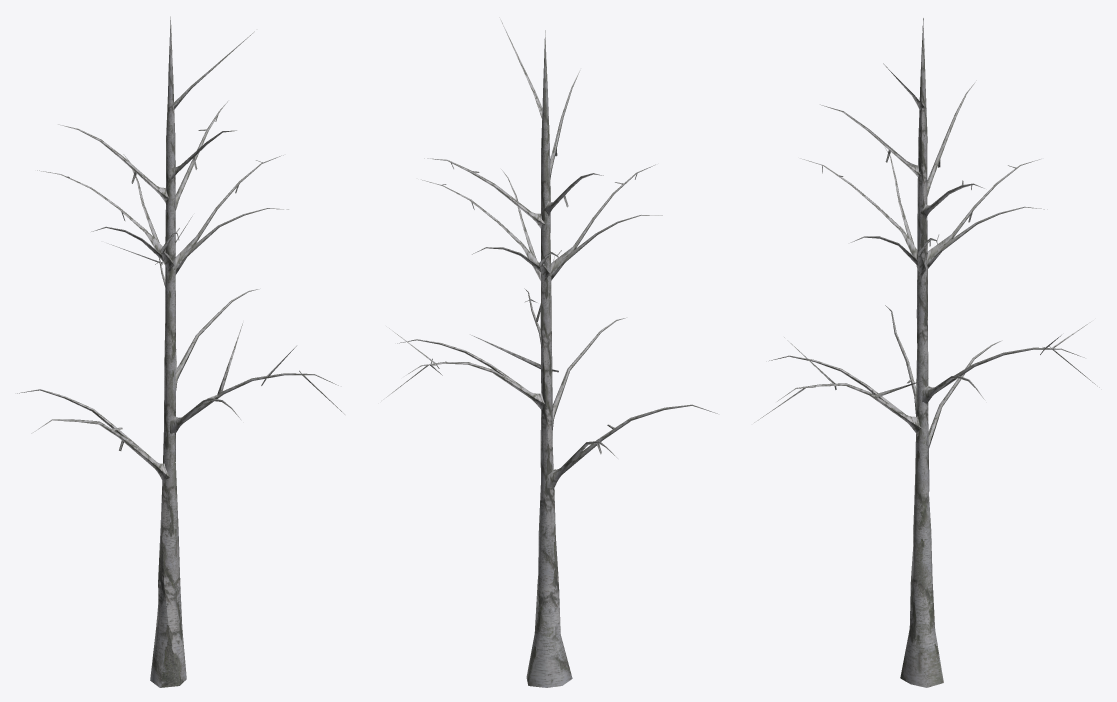
Rendered from birtch-01.glb.
3 renders of one model, left to right at view 1: azimuth 30°, elevation 25°; view 2: azimuth 150°, elevation 25°; view 3: azimuth 270°, elevation 25°, orthographic. The views are drawn at different scales.
Parts seen in each view (by area): view 1: birtch-01; view 2: birtch-01; view 3: birtch-01.
Boxes of the visible parts, x1,y1,x2,y2 form: birtch-01: (17,16,344,687); birtch-01: (383,17,717,687); birtch-01: (754,18,1099,687).
Size of what is drawn, in the model's own units: 3.1 by 6.88 by 3.3.
Materials: 1 (1 with a texture image).
